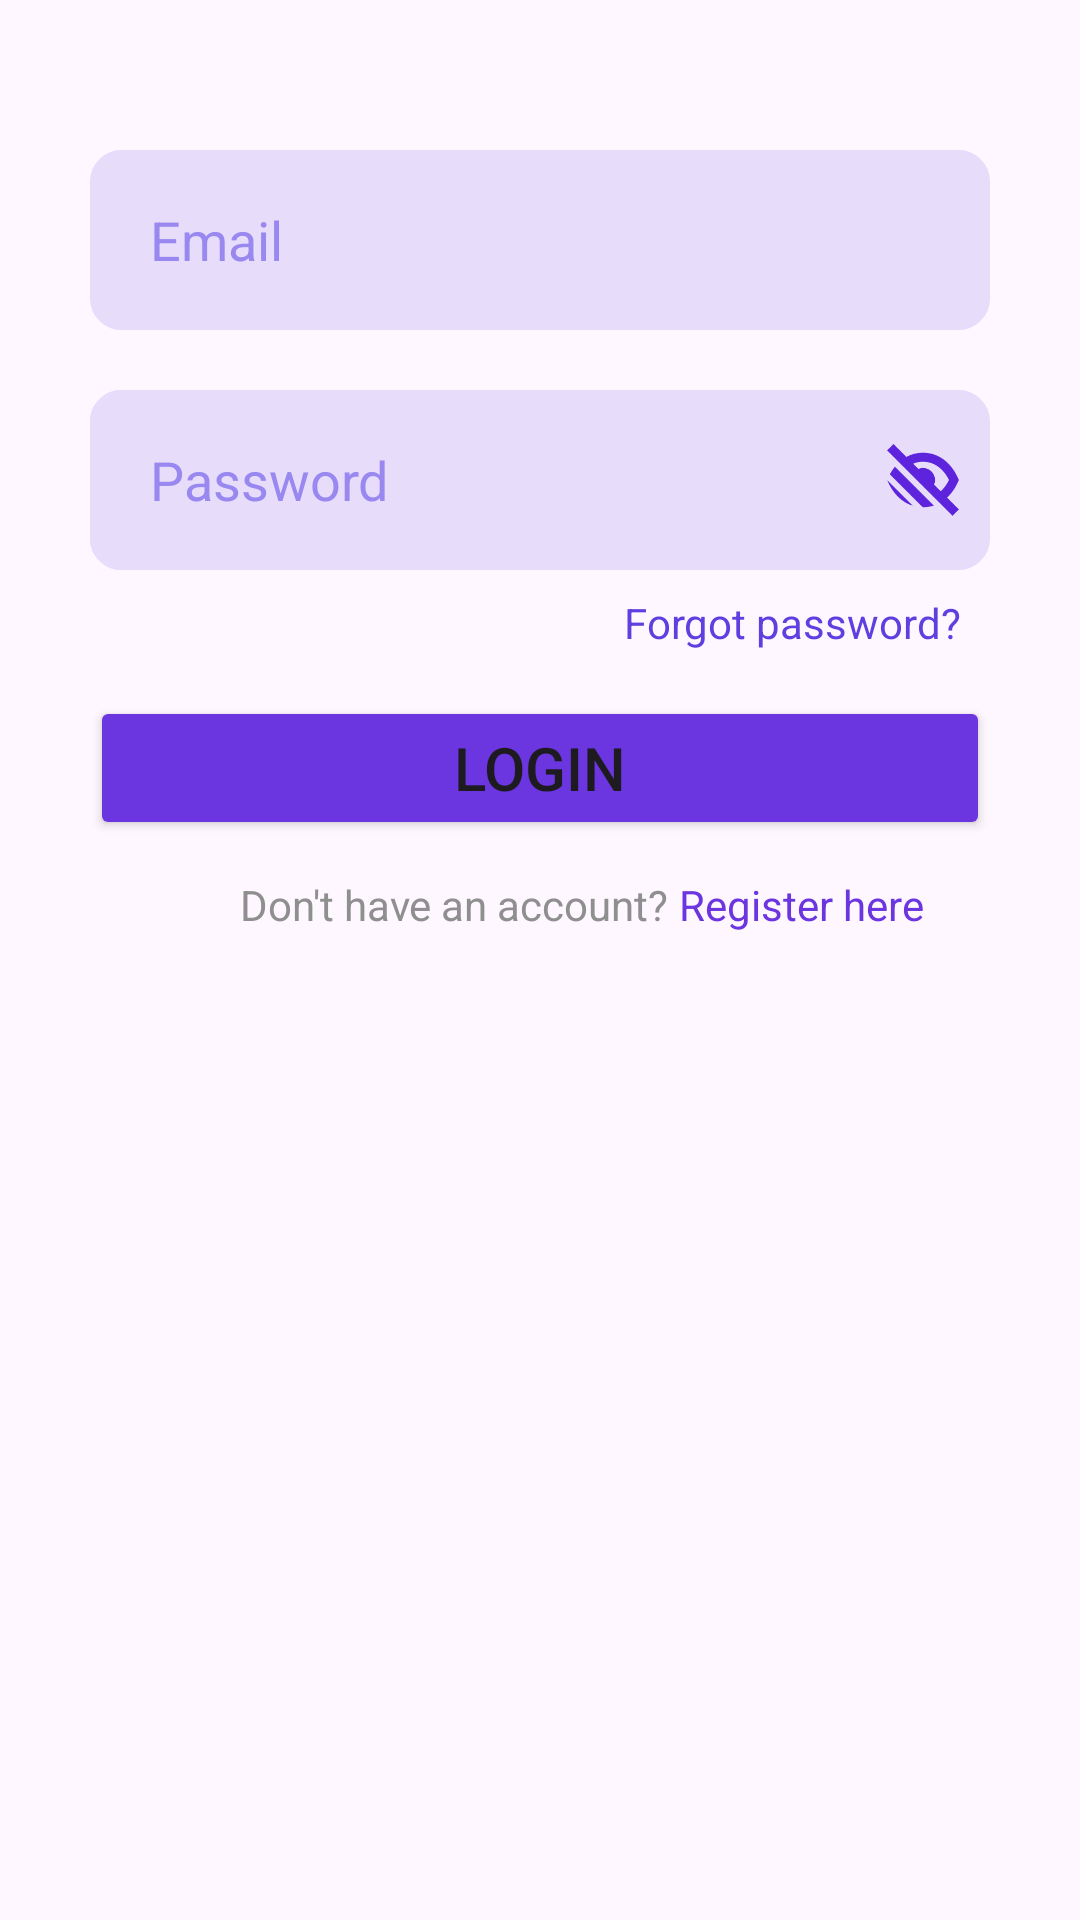

Icons on this 1080w x 1920h Android screen, each with its box as box=[x1, y1, x2, y2]:
eye close: box=[887, 444, 959, 516]
